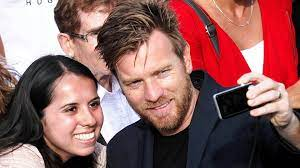face: (120, 59, 190, 124), (58, 93, 103, 148)
